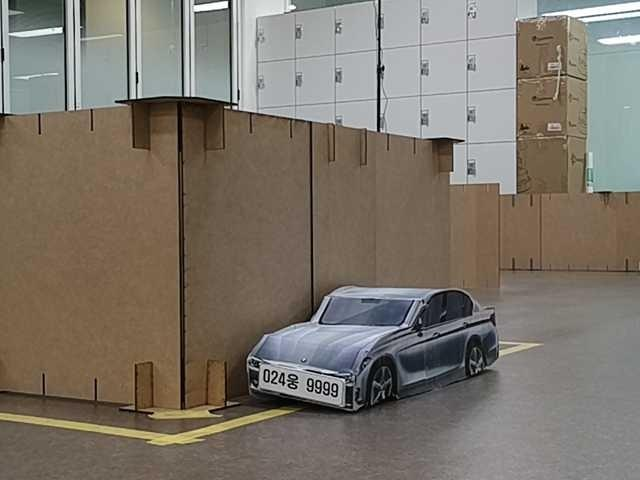car: (239, 282, 503, 414)
id: (257, 360, 352, 411)
